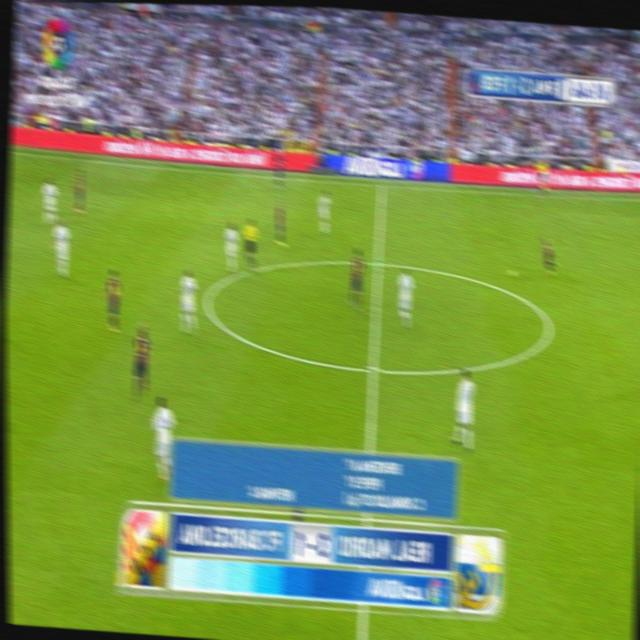bigarea_bottom_inner: (114, 573, 129, 602)
halfcircle_bottom: (365, 354, 381, 385)
halfcircle_top: (371, 249, 385, 275)
midline_top_intersection: (377, 178, 386, 192)
